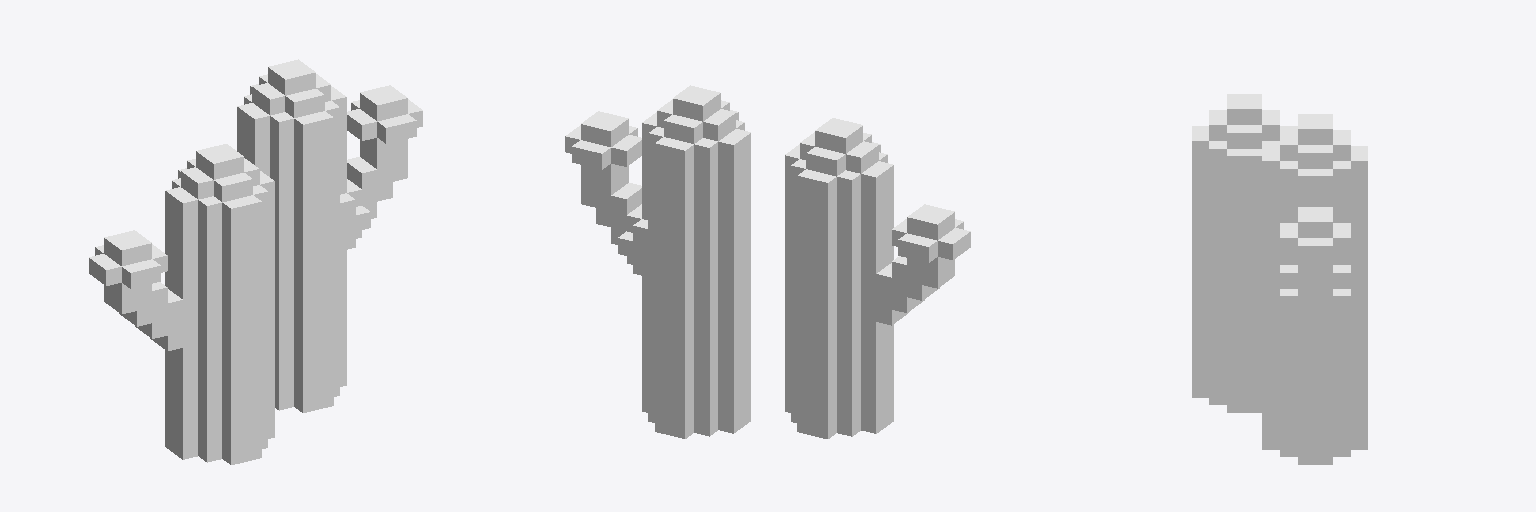
The model's file is 2smallcactus.obj.
The picture shows the model from 3 angles: view 1: azimuth 30°, elevation 25°; view 2: azimuth 150°, elevation 25°; view 3: azimuth 270°, elevation 25°; orthographic projection.
Visible parts, largest first — view 1: object 1; view 2: object 1; view 3: object 1.
Boxes of the visible parts, box(x1,y1,x2,y2) form: object 1: box(89, 59, 422, 464); object 1: box(565, 85, 970, 438); object 1: box(1192, 94, 1367, 464).
Size of the model in its own units: 2.3 by 2 by 1.